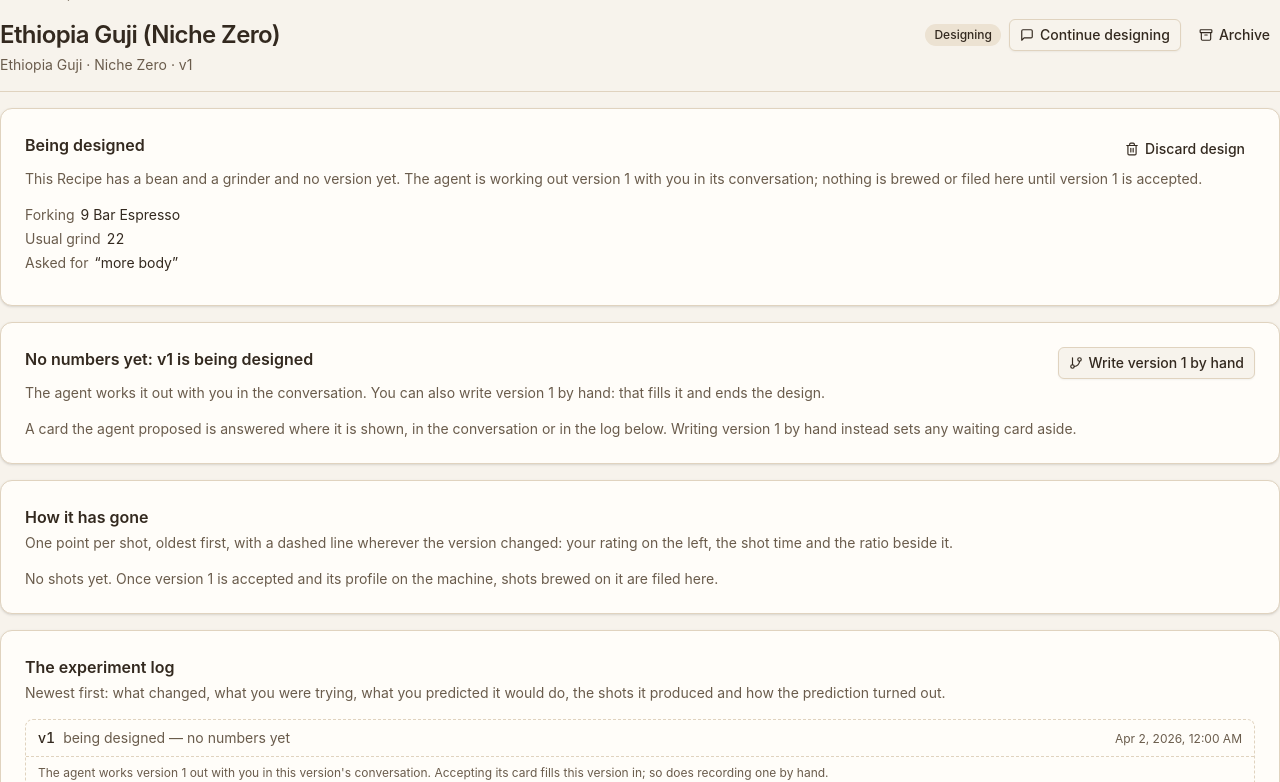
Test: RecipeDetailPage, a Recipe being designed › says in words why a design with a shot filed on it is kept
Click the button with test id "discard-design" at (1185, 149), box [1115, 133, 1255, 165]
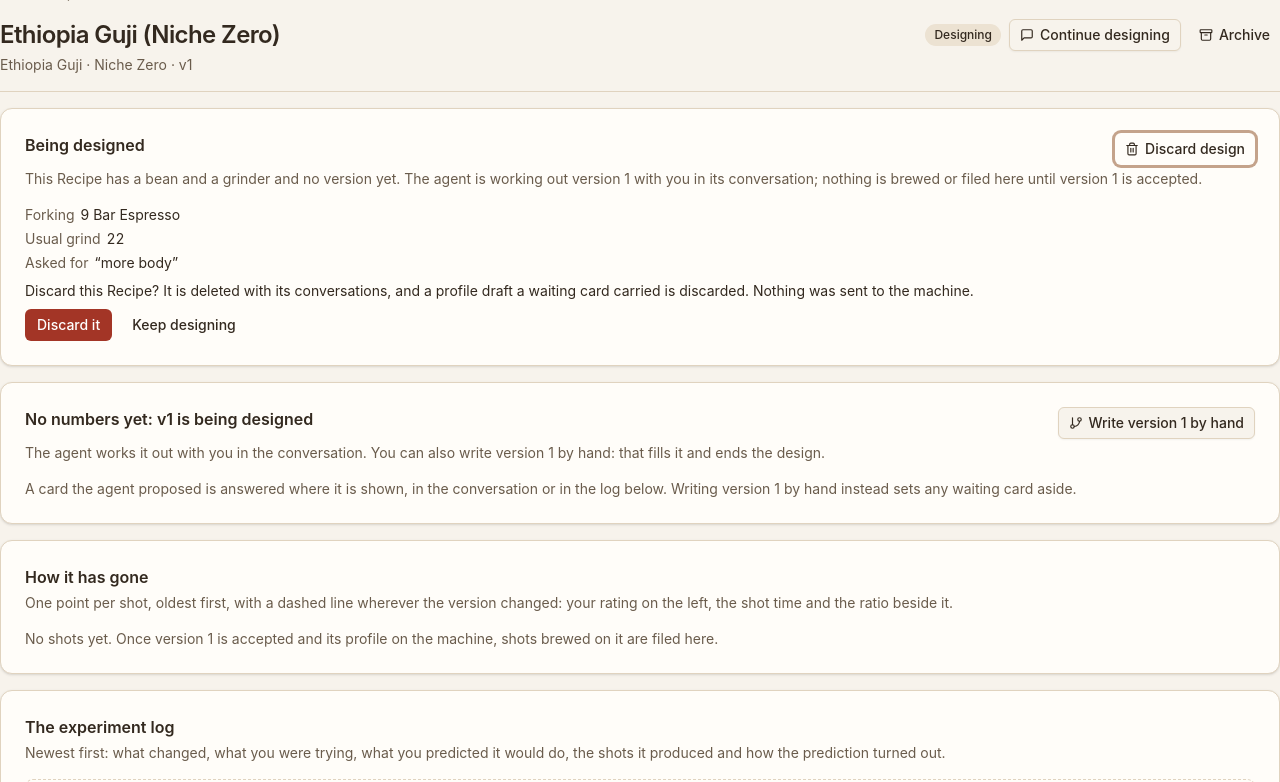
Click the button "Discard it" at (69, 325), box [25, 309, 112, 341]
(page scrolled)
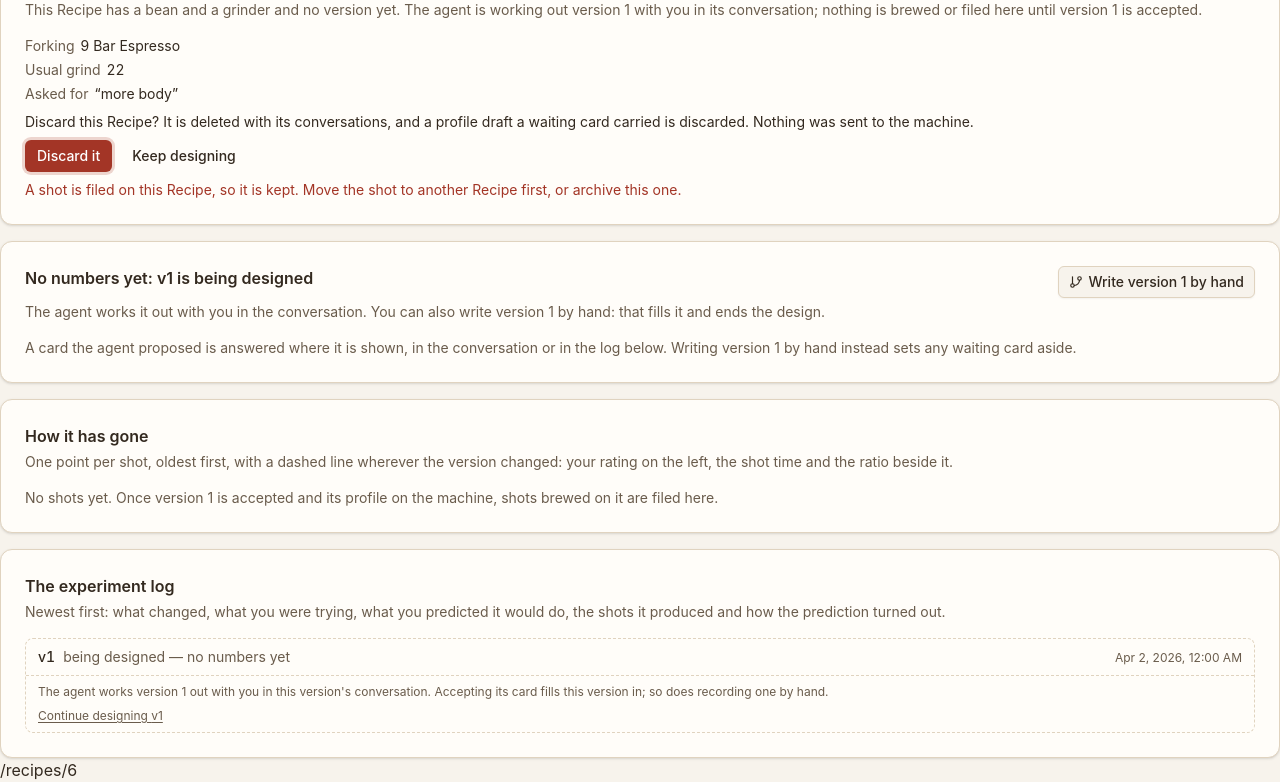
Expected: the text with test id "location" reads "/recipes/6", [0, 760, 77, 780]
Now the text with test id "discard-refused" shows "A shot is filed on this Recipe, so it is kept", box [25, 181, 681, 198]
